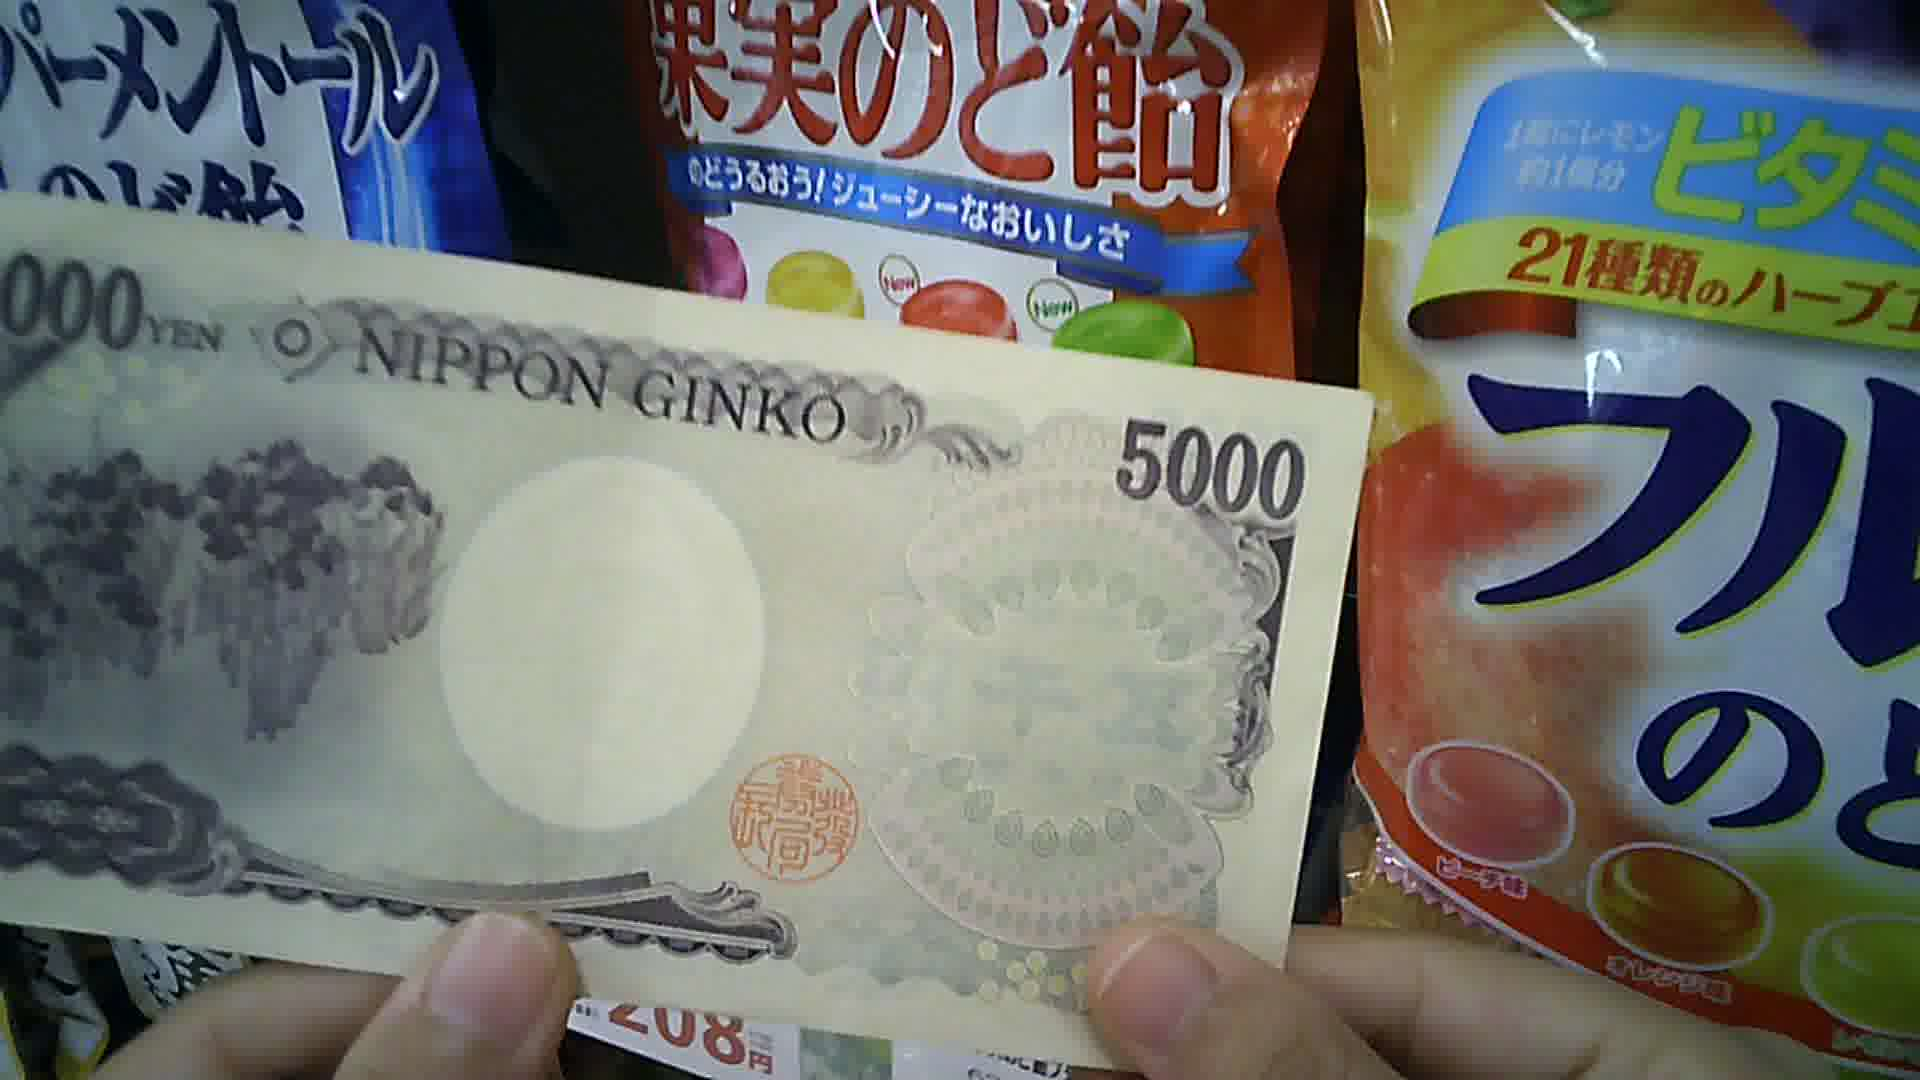5,000 Yen: (7, 179, 1342, 1046)
